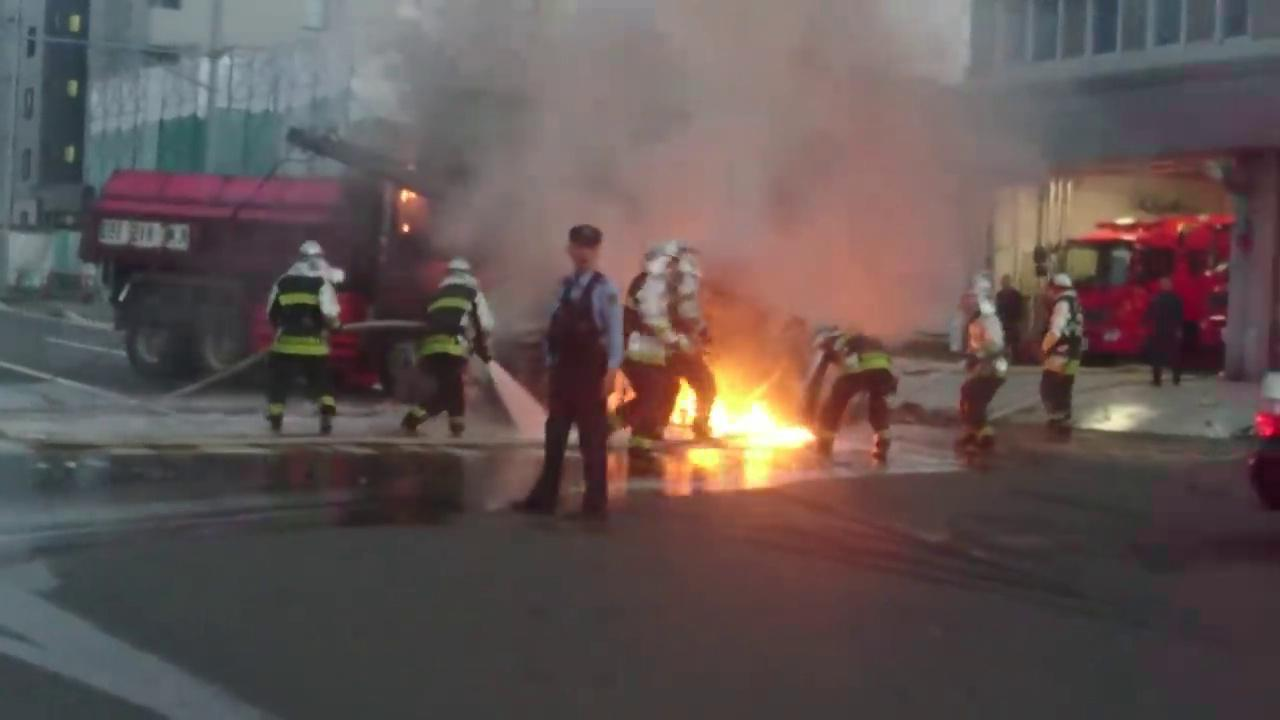Fire: (677, 371, 809, 466), (402, 187, 423, 203)
